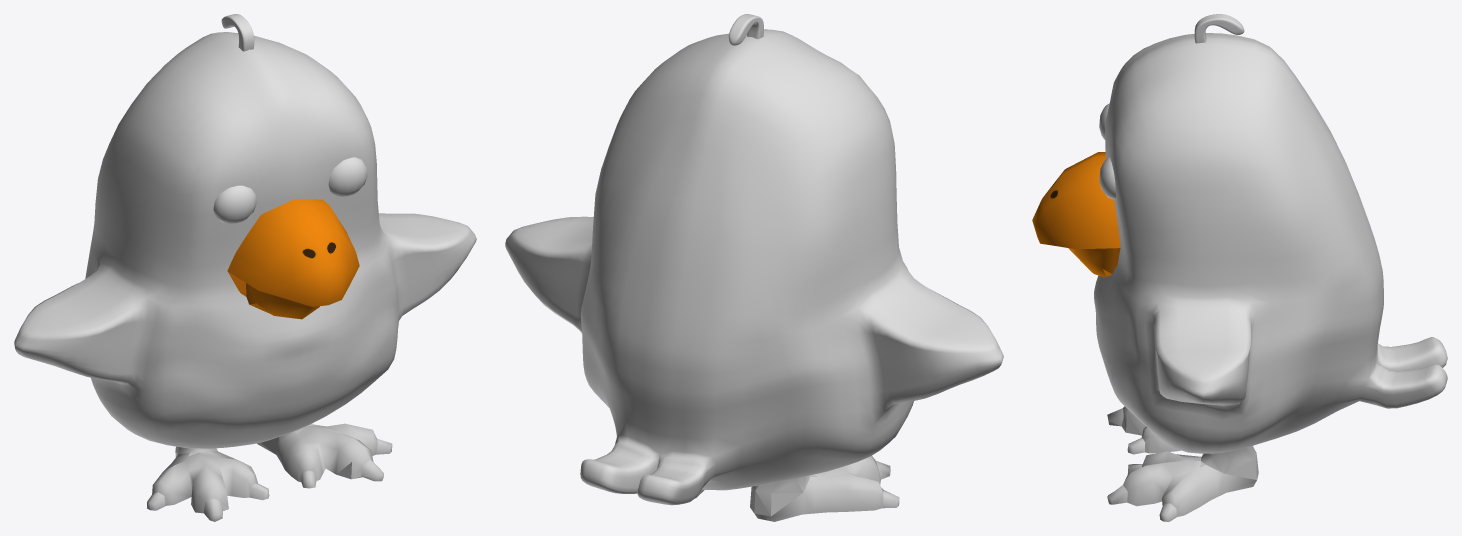
Rendered from pajaro_fbx.FBX.
3 renders of one model, left to right at view 1: azimuth 30°, elevation 25°; view 2: azimuth 150°, elevation 25°; view 3: azimuth 270°, elevation 25°, orthographic. The views are drawn at different scales.
Parts seen in each view (by area): view 1: Box001, pico, patas, Sphere001, Sphere002; view 2: Box001, patas; view 3: Box001, patas, pico, Sphere002.
Boxes of the visible parts, bbox=[...] form: Box001: bbox=[14, 14, 476, 448]; pico: bbox=[227, 199, 359, 319]; patas: bbox=[147, 423, 392, 521]; Sphere001: bbox=[213, 185, 256, 223]; Sphere002: bbox=[328, 157, 367, 196]; Box001: bbox=[505, 14, 1003, 505]; patas: bbox=[695, 455, 899, 521]; Box001: bbox=[1094, 14, 1447, 453]; patas: bbox=[1107, 406, 1258, 521]; pico: bbox=[1032, 151, 1120, 277]; Sphere002: bbox=[1099, 157, 1116, 199].
Size of the model in its own units: 218 by 202 by 171.
